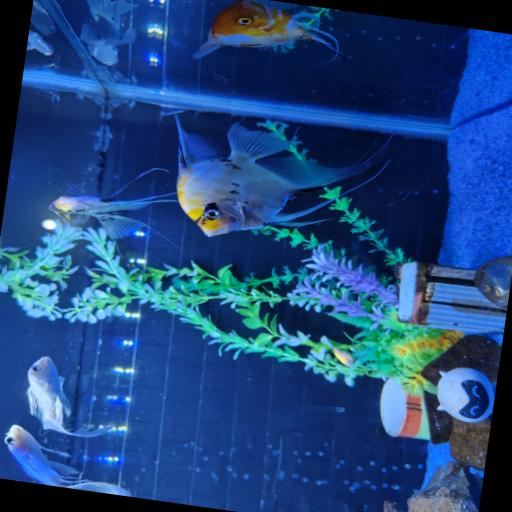Fish: (175, 115, 383, 236), (193, 0, 349, 61), (49, 168, 176, 239), (5, 425, 131, 496), (28, 357, 111, 437), (80, 0, 137, 65), (80, 24, 136, 65), (87, 0, 138, 39), (30, 0, 56, 35), (27, 31, 53, 55), (333, 348, 353, 367)
